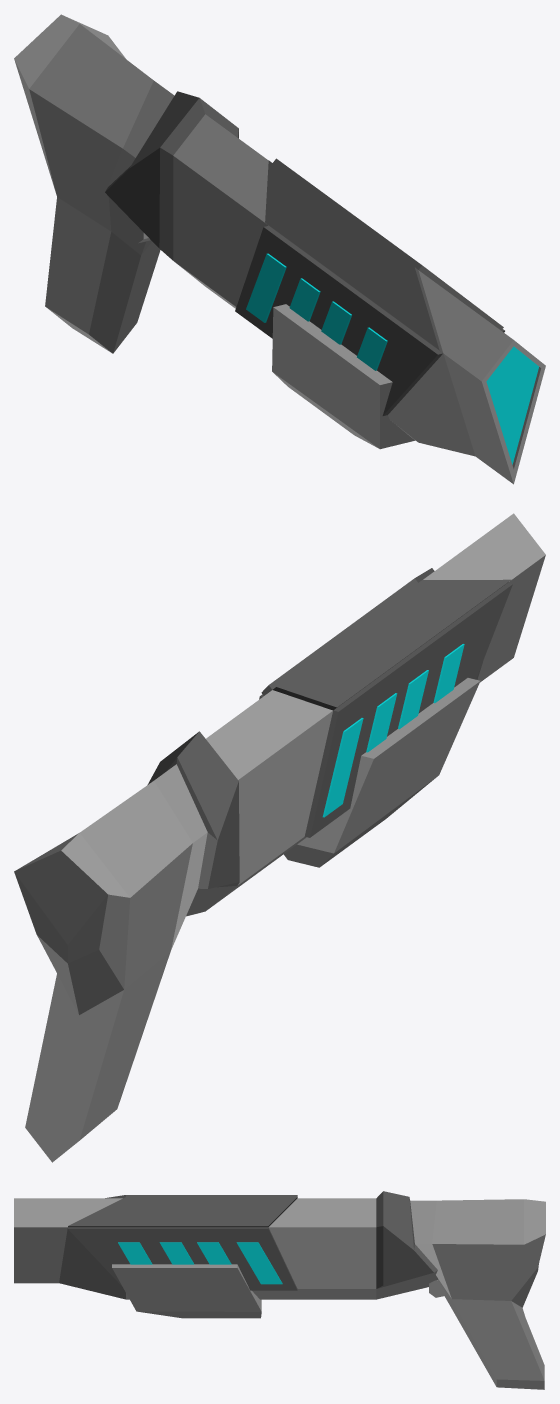
Rendered from shotgun002.fbx.
The picture shows the model from 3 angles, top to bottom: view 1: azimuth 30°, elevation 25°; view 2: azimuth 150°, elevation 25°; view 3: azimuth 270°, elevation 25°; orthographic projection. The views are drawn at different scales.
Visible parts, largest first — view 1: Cube, Cube.001, 큐브, 큐브.004, 큐브.003, 큐브.002, 큐브.001; view 2: Cube, Cube.001, 큐브, 큐브.004, 큐브.003, 큐브.001, 큐브.002; view 3: Cube, Cube.001, 큐브, 큐브.004, 큐브.002, 큐브.003, 큐브.001.
Part boxes in pixels (x1,y1,x2,y2): Cube: (105, 91, 545, 484); Cube.001: (14, 14, 174, 353); 큐브: (272, 304, 415, 449); 큐브.004: (246, 253, 286, 322); 큐브.003: (289, 278, 320, 321); 큐브.002: (321, 301, 351, 344); 큐브.001: (357, 327, 387, 370); Cube: (147, 513, 545, 916); Cube.001: (14, 764, 207, 1162); 큐브: (284, 678, 480, 867); 큐브.004: (322, 718, 363, 817); 큐브.003: (366, 693, 397, 752); 큐브.001: (433, 644, 464, 703); 큐브.002: (398, 670, 428, 729); Cube: (14, 1191, 437, 1299); Cube.001: (410, 1199, 545, 1389); 큐브: (112, 1264, 261, 1318); 큐브.004: (236, 1242, 282, 1284); 큐브.002: (159, 1242, 194, 1264); 큐브.003: (197, 1242, 231, 1264); 큐브.001: (118, 1242, 152, 1264).
Bounding box in the file's own units: 305 × 943 × 2322.
